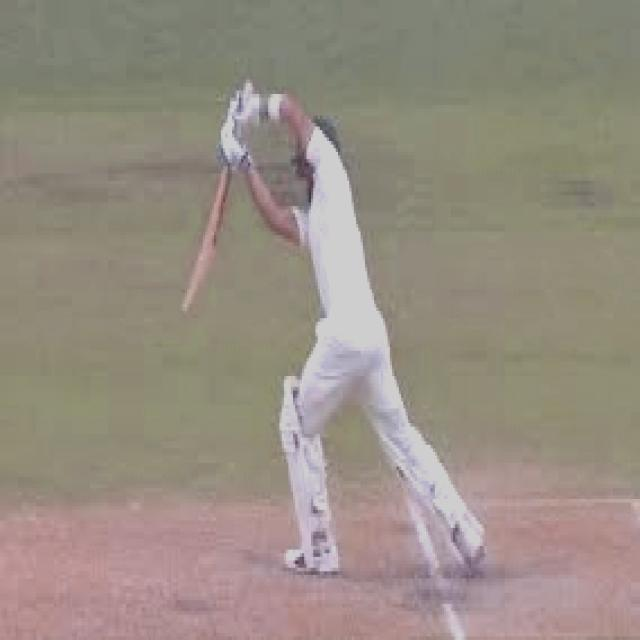toe: (180, 253, 211, 320)
